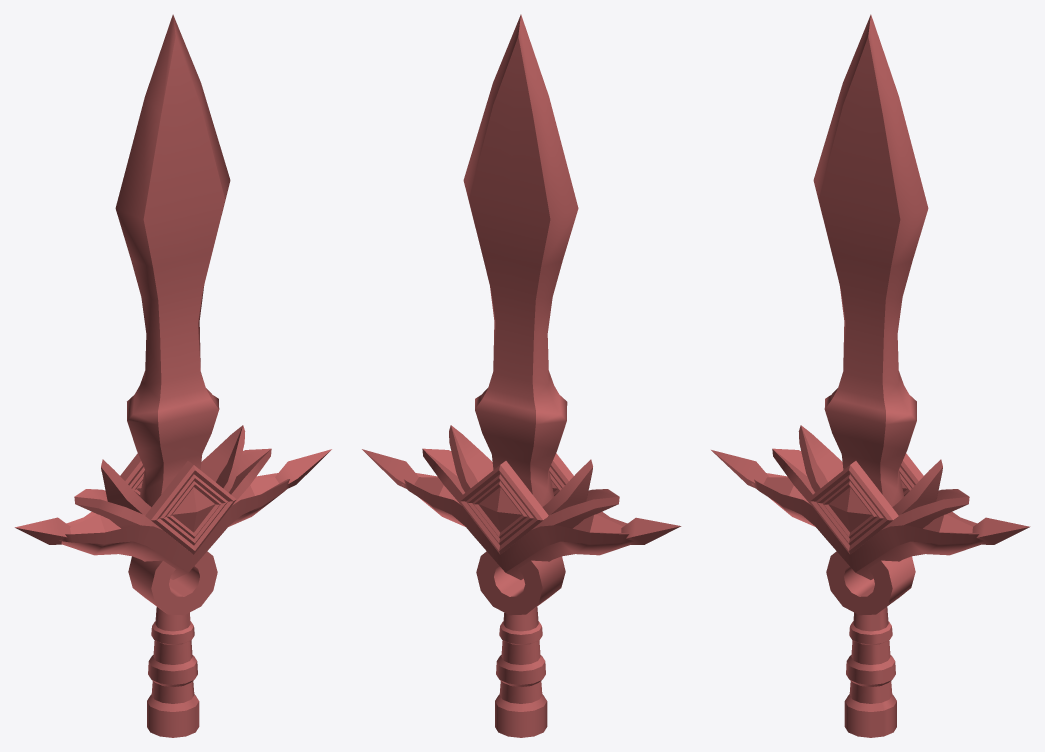
The model's file is sword_lo.fbx.
The picture shows the model from 3 angles, left to right: view 1: azimuth 30°, elevation 25°; view 2: azimuth 150°, elevation 25°; view 3: azimuth 330°, elevation 25°; orthographic projection.
Parts seen in each view (by area): view 1: blade_lo, decopart3_lo, handle_lo, gem_outer, ring_lo, decopart1_lo, decopart2_lo, crystal, gem_outer1; view 2: blade_lo, decopart3_lo, handle_lo, gem_outer1, ring_lo, decopart1_lo, decopart2_lo, crystal, gem_outer; view 3: blade_lo, decopart3_lo, handle_lo, gem_outer, ring_lo, decopart1_lo, decopart2_lo, crystal, gem_outer1.
Part boxes in pixels (left/top/right/bottom): blade_lo: left=115, top=14, right=230, bottom=507; decopart3_lo: left=14, top=449, right=331, bottom=579; handle_lo: left=147, top=607, right=199, bottom=737; gem_outer: left=145, top=461, right=236, bottom=554; ring_lo: left=128, top=551, right=217, bottom=615; decopart1_lo: left=101, top=425, right=245, bottom=515; decopart2_lo: left=74, top=448, right=271, bottom=529; crystal: left=70, top=477, right=278, bottom=534; gem_outer1: left=120, top=453, right=144, bottom=496; blade_lo: left=463, top=14, right=578, bottom=506; decopart3_lo: left=362, top=449, right=681, bottom=579; handle_lo: left=495, top=607, right=547, bottom=737; gem_outer1: left=457, top=461, right=548, bottom=554; ring_lo: left=476, top=551, right=565, bottom=615; decopart1_lo: left=449, top=425, right=592, bottom=515; decopart2_lo: left=422, top=448, right=619, bottom=529; crystal: left=414, top=477, right=622, bottom=532; gem_outer: left=549, top=453, right=573, bottom=495; blade_lo: left=813, top=14, right=928, bottom=507; decopart3_lo: left=711, top=450, right=1030, bottom=579; handle_lo: left=844, top=607, right=896, bottom=737; gem_outer: left=807, top=461, right=898, bottom=554; ring_lo: left=826, top=551, right=915, bottom=615; decopart1_lo: left=798, top=425, right=942, bottom=515; decopart2_lo: left=772, top=448, right=969, bottom=529; crystal: left=763, top=477, right=972, bottom=532; gem_outer1: left=899, top=453, right=923, bottom=496.
Bounding box in the file's own units: 0.4388 × 0.9403 × 0.1132.
